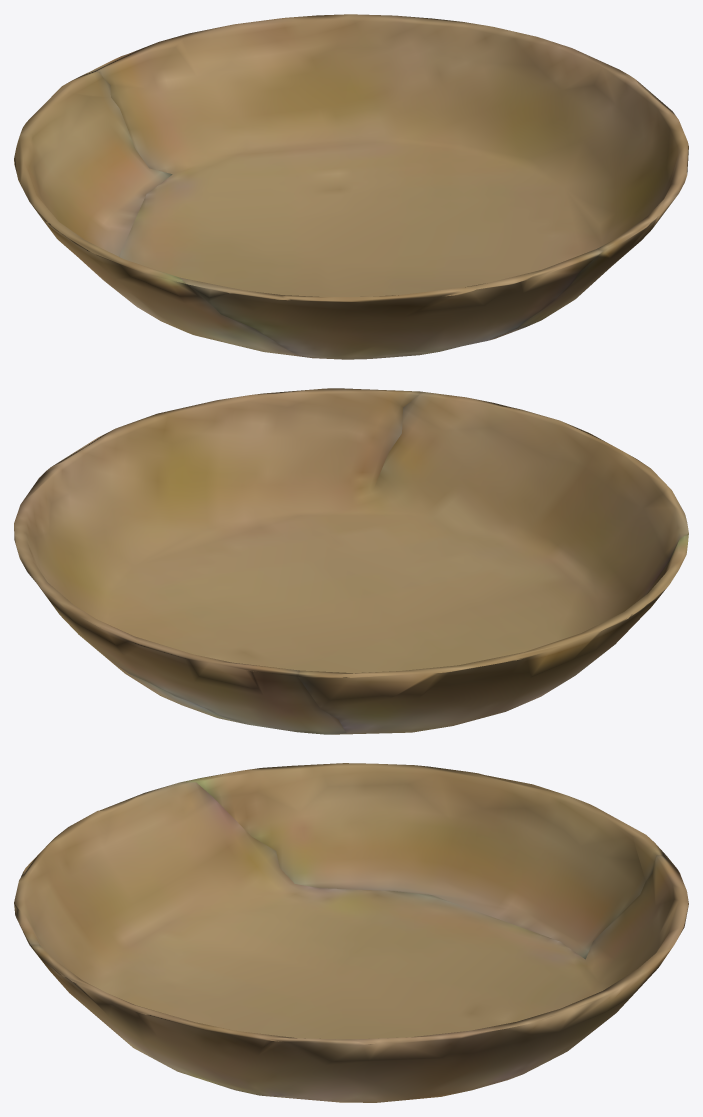
Rendered from Ecoforms_Plant_Saucer_S14NATURAL-medium.glb.
The picture shows the model from 3 angles, top to bottom: view 1: azimuth 30°, elevation 25°; view 2: azimuth 150°, elevation 25°; view 3: azimuth 270°, elevation 25°; orthographic projection.
Visible parts, largest first — view 1: Ecoforms_Plant_Saucer_S14NATURAL; view 2: Ecoforms_Plant_Saucer_S14NATURAL; view 3: Ecoforms_Plant_Saucer_S14NATURAL.
Boxes of the visible parts, x1,y1,x2,y2 form: Ecoforms_Plant_Saucer_S14NATURAL: (14, 14, 688, 359); Ecoforms_Plant_Saucer_S14NATURAL: (14, 388, 688, 734); Ecoforms_Plant_Saucer_S14NATURAL: (14, 763, 688, 1102).
Size of the model in its own units: 0.1475 by 0.0261 by 0.1475.
Materials: 1 (1 with a texture image).
